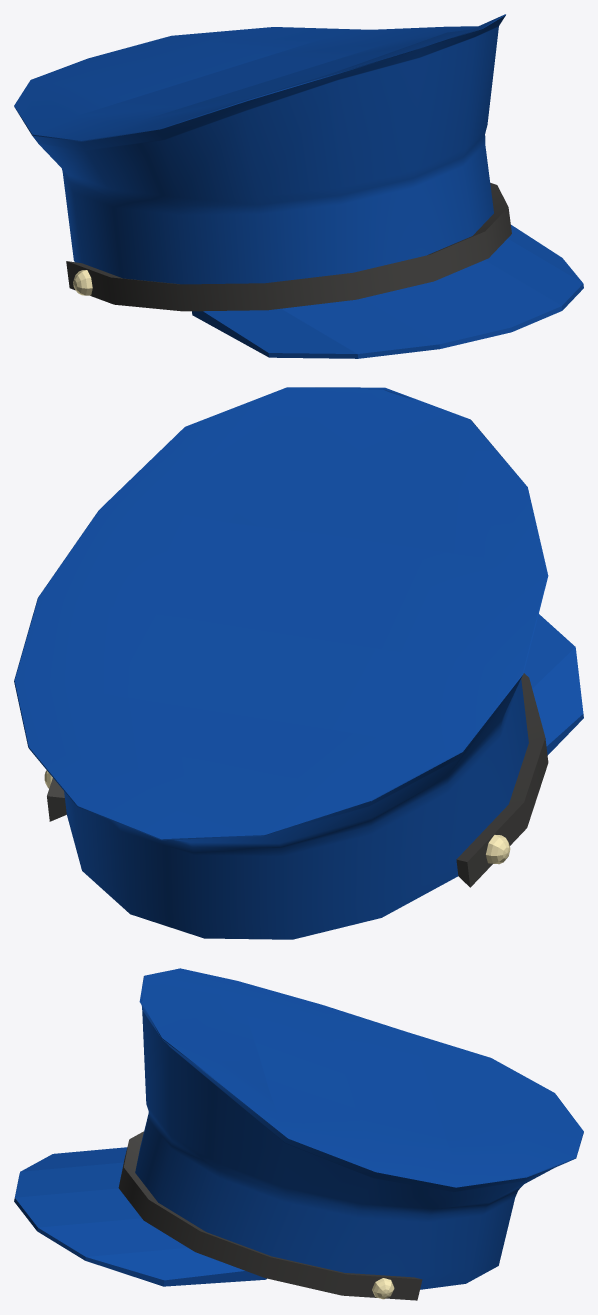
File: hat8.fbx
3 renders of one model, top to bottom at view 1: azimuth 30°, elevation 25°; view 2: azimuth 150°, elevation 25°; view 3: azimuth 270°, elevation 25°, orthographic. The views are drawn at different scales.
Parts seen in each view (by area): view 1: Hat5; view 2: Hat5; view 3: Hat5.
Boxes of the visible parts, left/top/right/bottom form: Hat5: left=14, top=14, right=583, bottom=358; Hat5: left=14, top=387, right=583, bottom=939; Hat5: left=14, top=968, right=583, bottom=1300.
Bounding box in the file's own units: 15.62 × 11.77 × 23.23.
